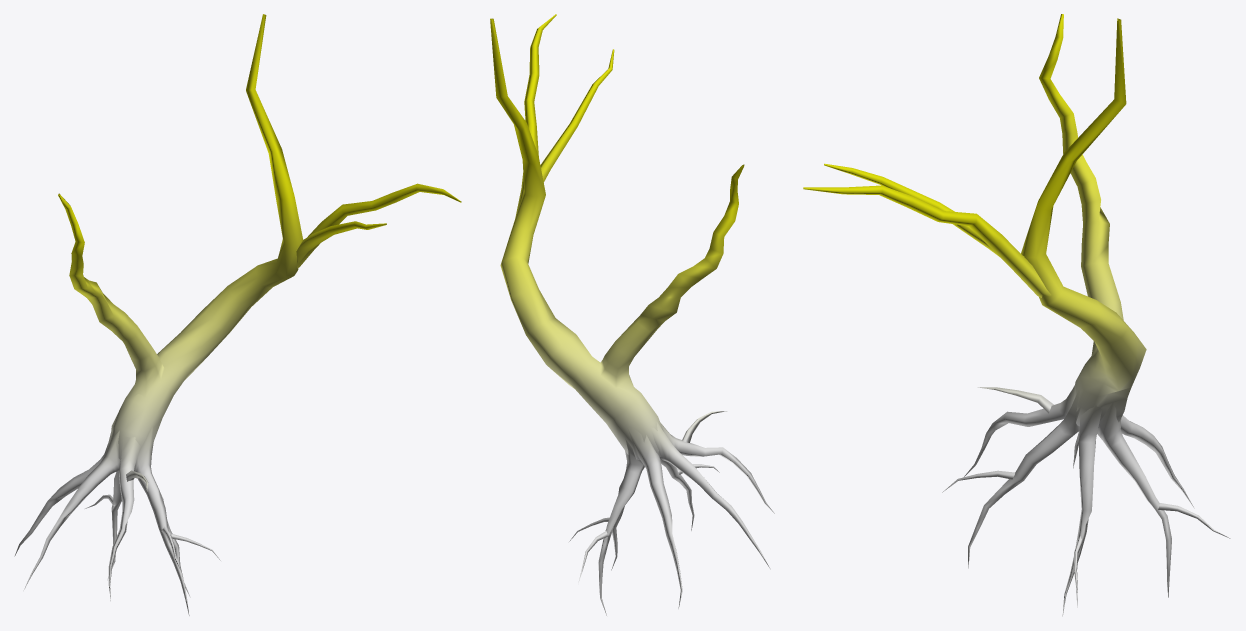
Rendered from Deadtree2.fbx.
The picture shows the model from 3 angles, left to right: view 1: azimuth 30°, elevation 25°; view 2: azimuth 150°, elevation 25°; view 3: azimuth 270°, elevation 25°; orthographic projection. The views are drawn at different scales.
Parts seen in each view (by area): view 1: Deadtree2_LOD0; view 2: Deadtree2_LOD0; view 3: Deadtree2_LOD0.
Part boxes in pixels (left/top/right/bottom): Deadtree2_LOD0: left=14, top=14, right=461, bottom=615; Deadtree2_LOD0: left=490, top=14, right=774, bottom=615; Deadtree2_LOD0: left=803, top=14, right=1230, bottom=616.
Size of what is drawn, in the model's own units: 413 by 660 by 388.
